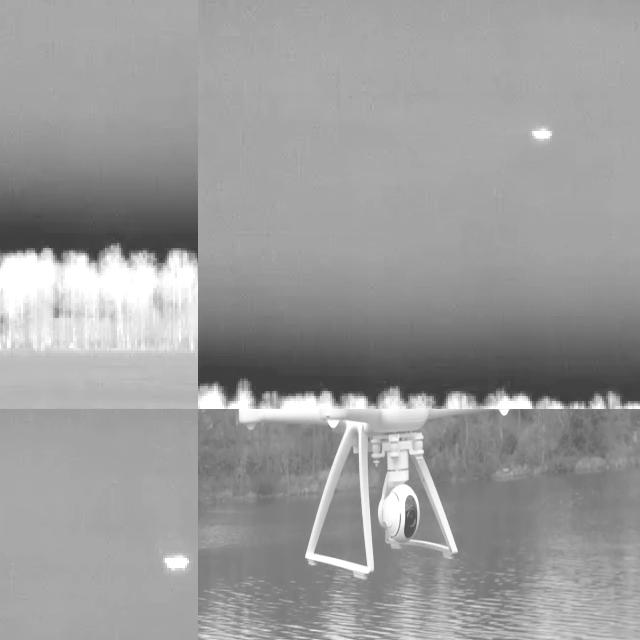1: (152, 549, 196, 582), (519, 121, 553, 149)
drone: (226, 409, 532, 576)
